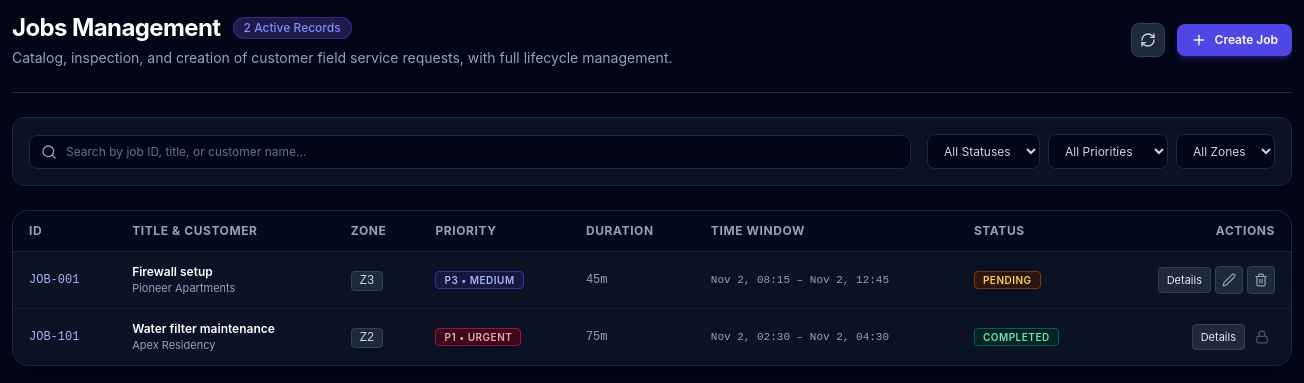
Test: JobsPage Component › filters jobs using search input
Check: the text "Firewall setup" is shown, box [132,264,213,279]
In the field with placeholder "Search by job ID, title, or customer name...": (470, 152) [29,134,911,168], type "Water filter"
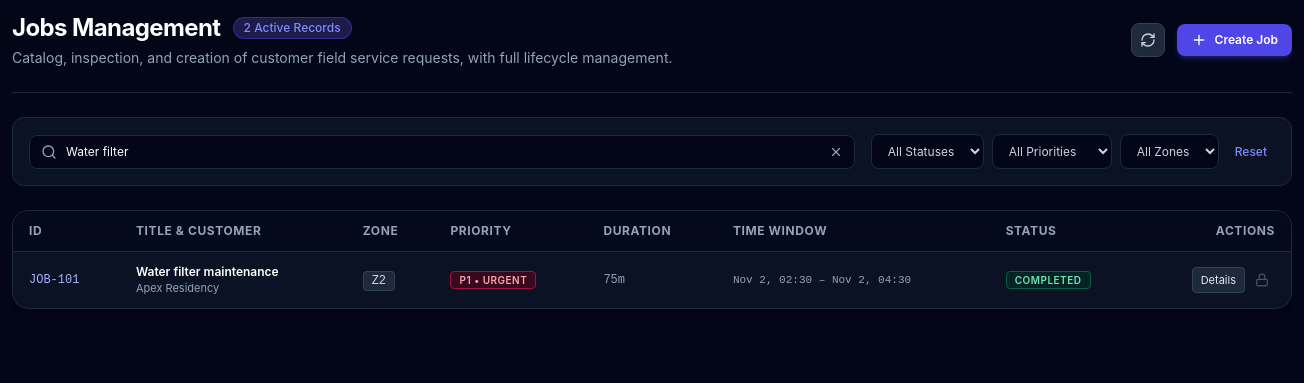
Check: the text "Water filter maintenance" is shown, box [136,264,279,279]
Check: the text "Firewall setup" is gone
